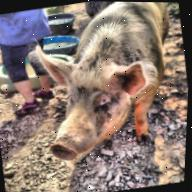boar: (15, 0, 190, 167)
